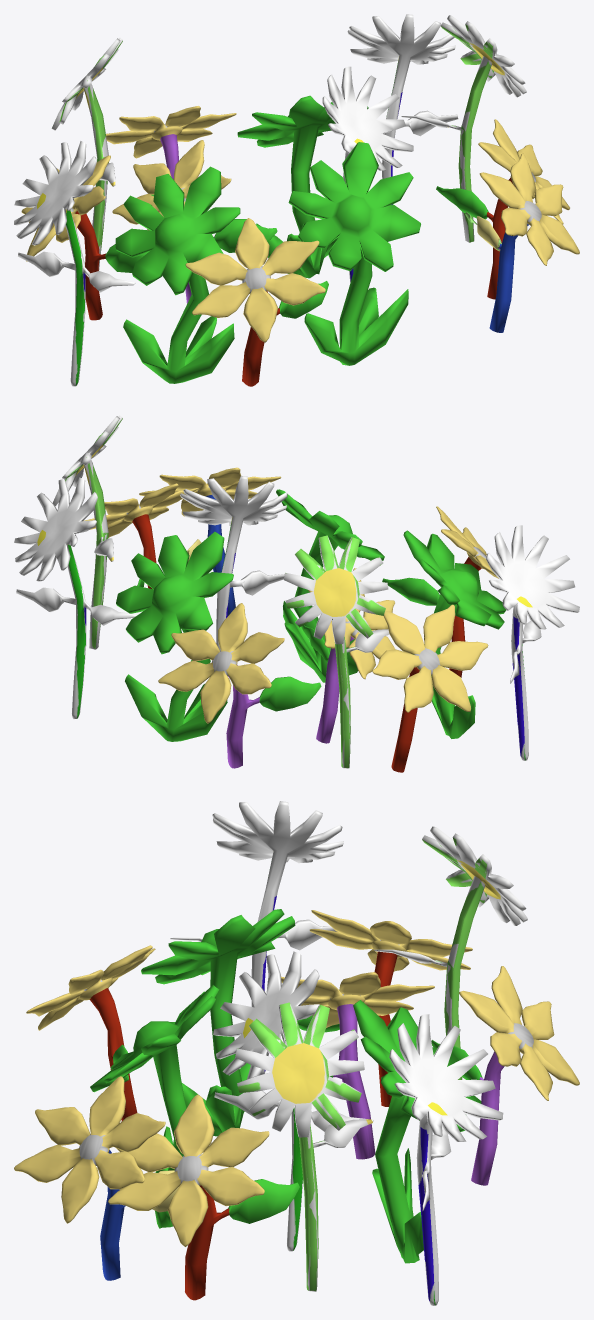
File: Jardin_Flores-001_Flip_Normal.fbx
3 views of the same model, one above another, from view 1: azimuth 30°, elevation 25°; view 2: azimuth 150°, elevation 25°; view 3: azimuth 270°, elevation 25° (orthographic). The views are drawn at different scales.
Visible parts, largest first — view 1: Jardin_Flores_LOD0; view 2: Jardin_Flores_LOD0; view 3: Jardin_Flores_LOD0.
Boxes of the visible parts, x1=… form: Jardin_Flores_LOD0: x1=14, y1=14, x2=579, y2=386; Jardin_Flores_LOD0: x1=14, y1=415, x2=579, y2=772; Jardin_Flores_LOD0: x1=14, y1=801, x2=579, y2=1305.
Size of what is drawn, in the model's own units: 2297 by 1127 by 1798.
